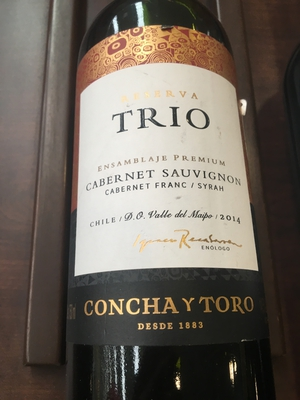trio cabernet sauvignon: (60, 17, 270, 392)
